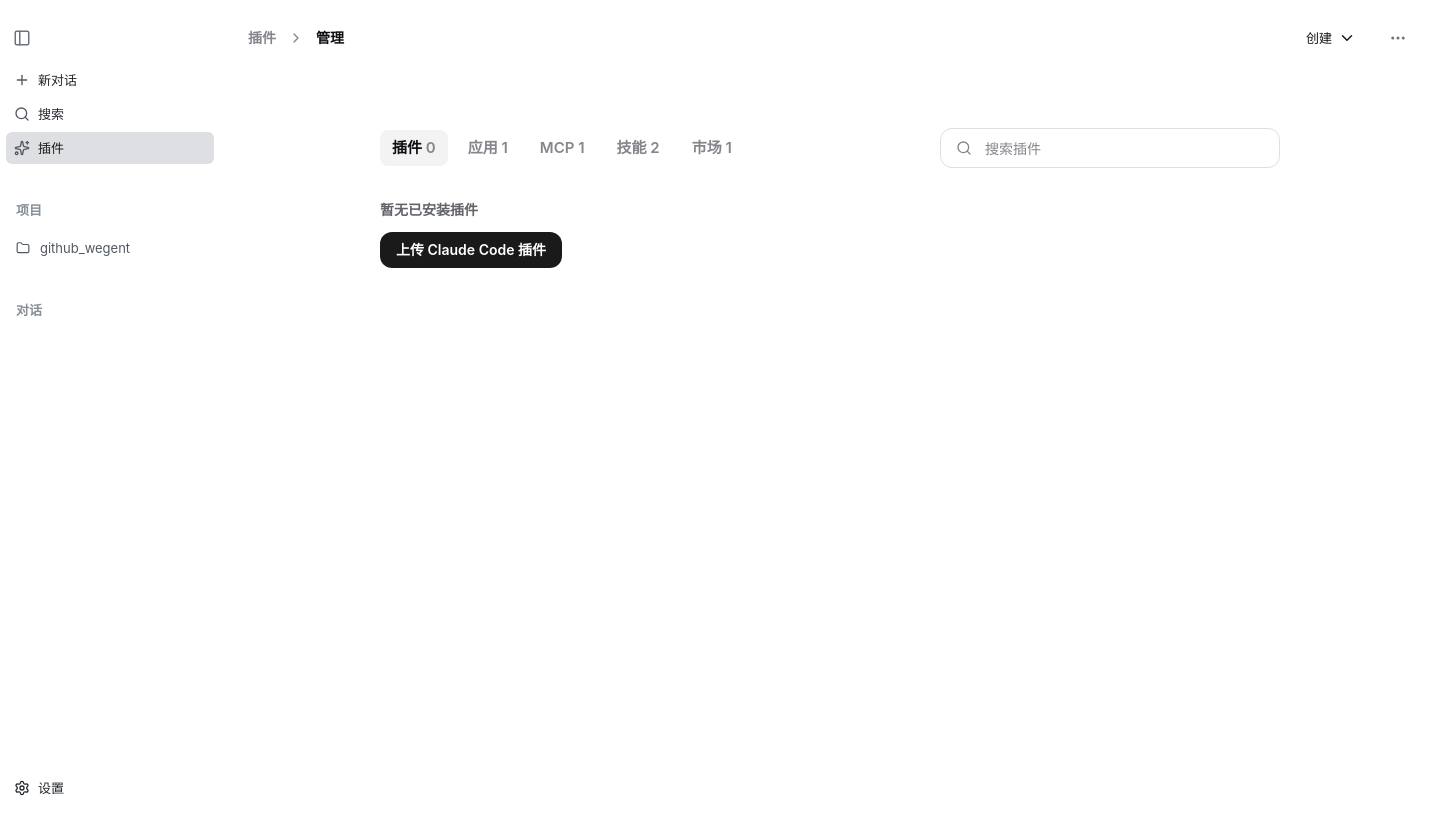
Scenario: App plugins route › uninstalls system skills from management page
The width and height of the screenshot is (1440, 822).
Click the tab "技能 2": coordinates (638, 148) 604,130 -> 672,166
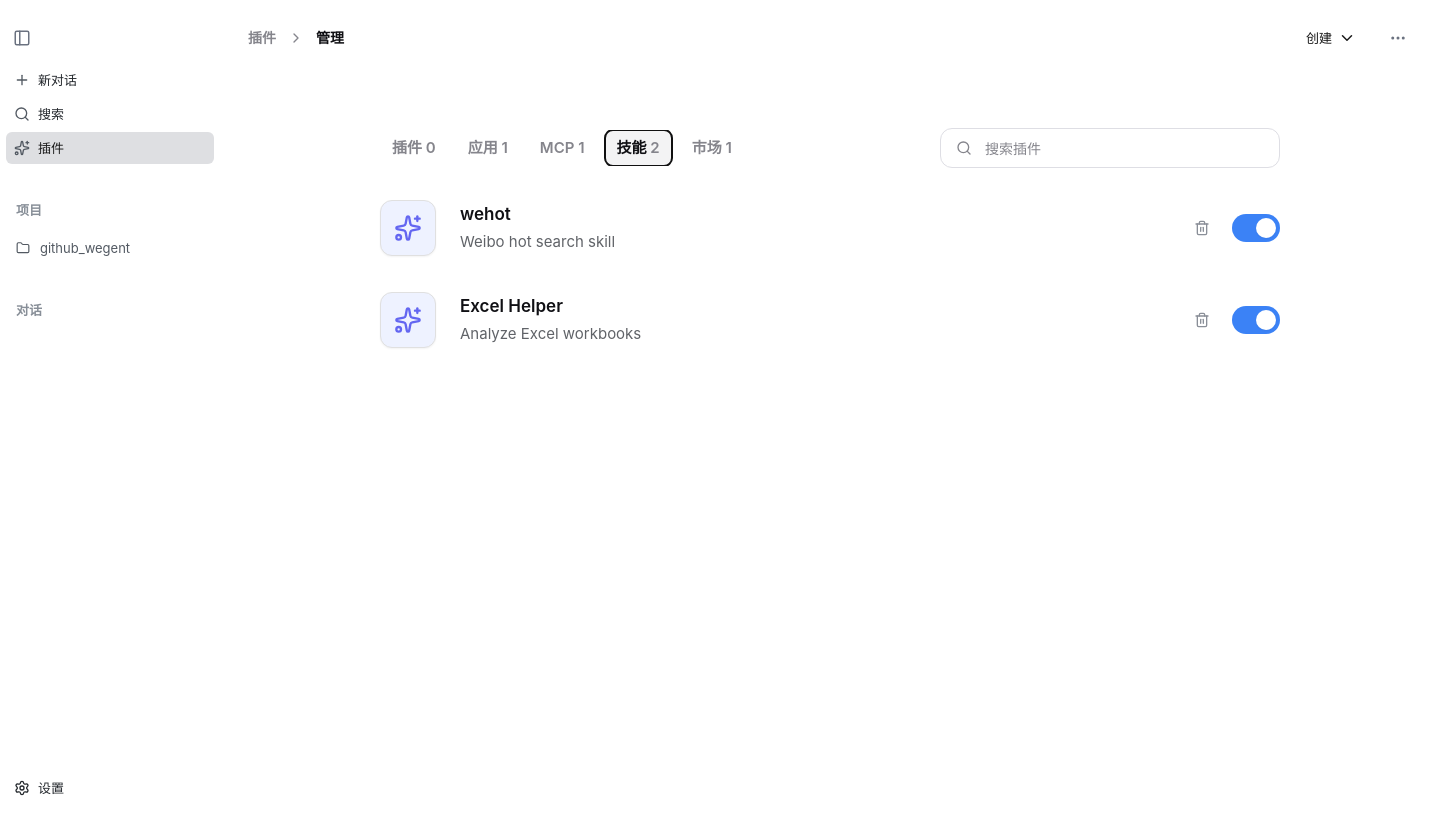
Now the heading "wehot" is shown, box 460,204 -> 511,224
Click the button with test id "installed-skill-uninstall-42": coordinates (1202, 228) 1184,210 -> 1220,246
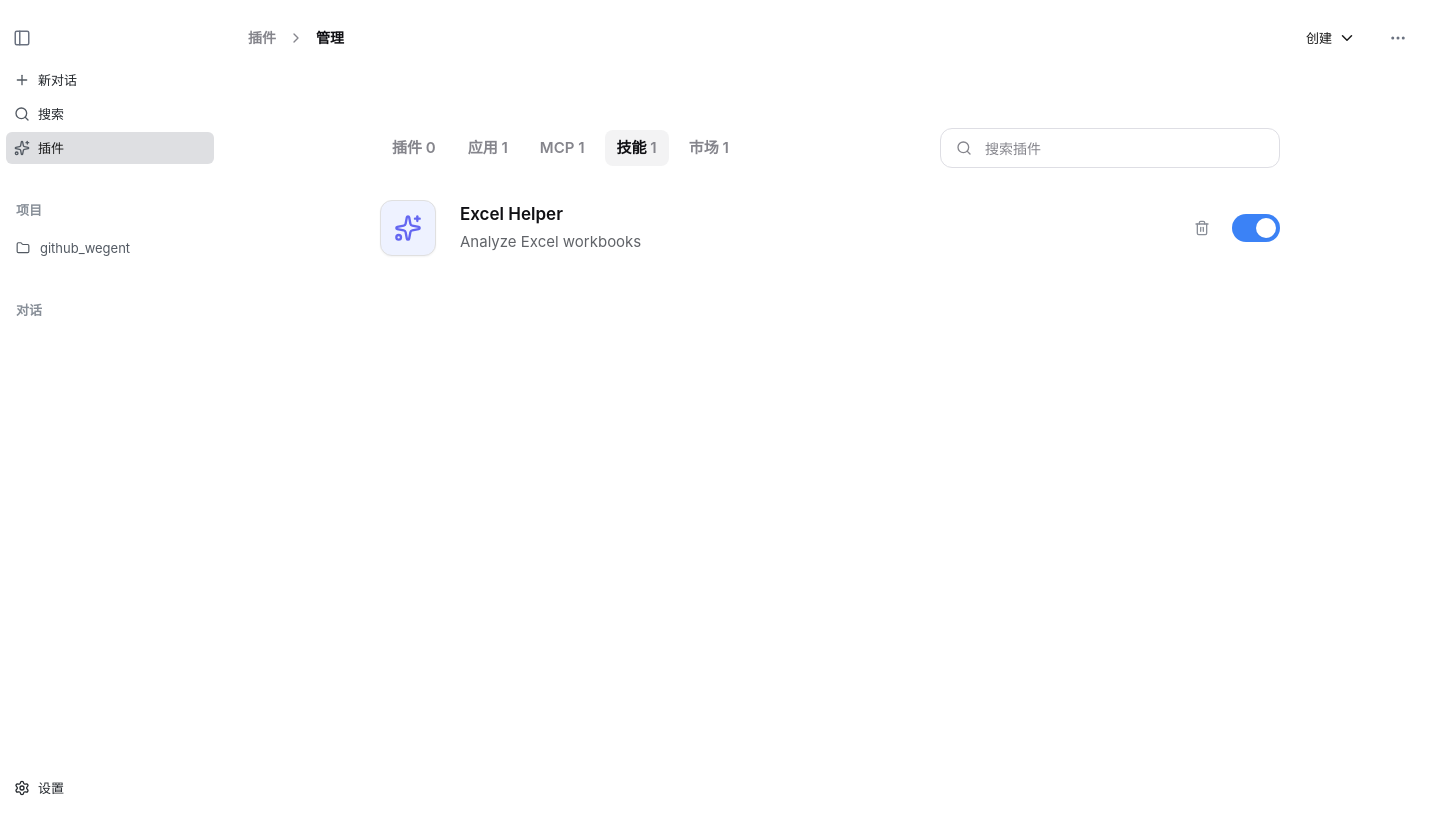
Now the heading "wehot" is gone
